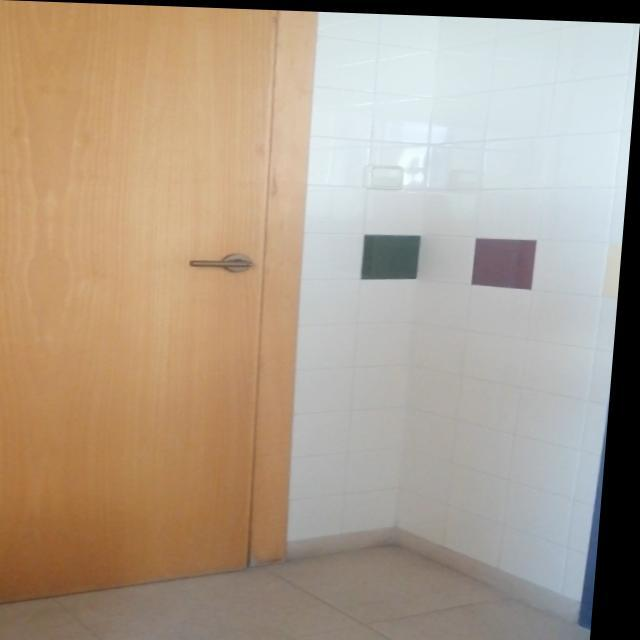door_handle: (191, 255, 262, 268)
